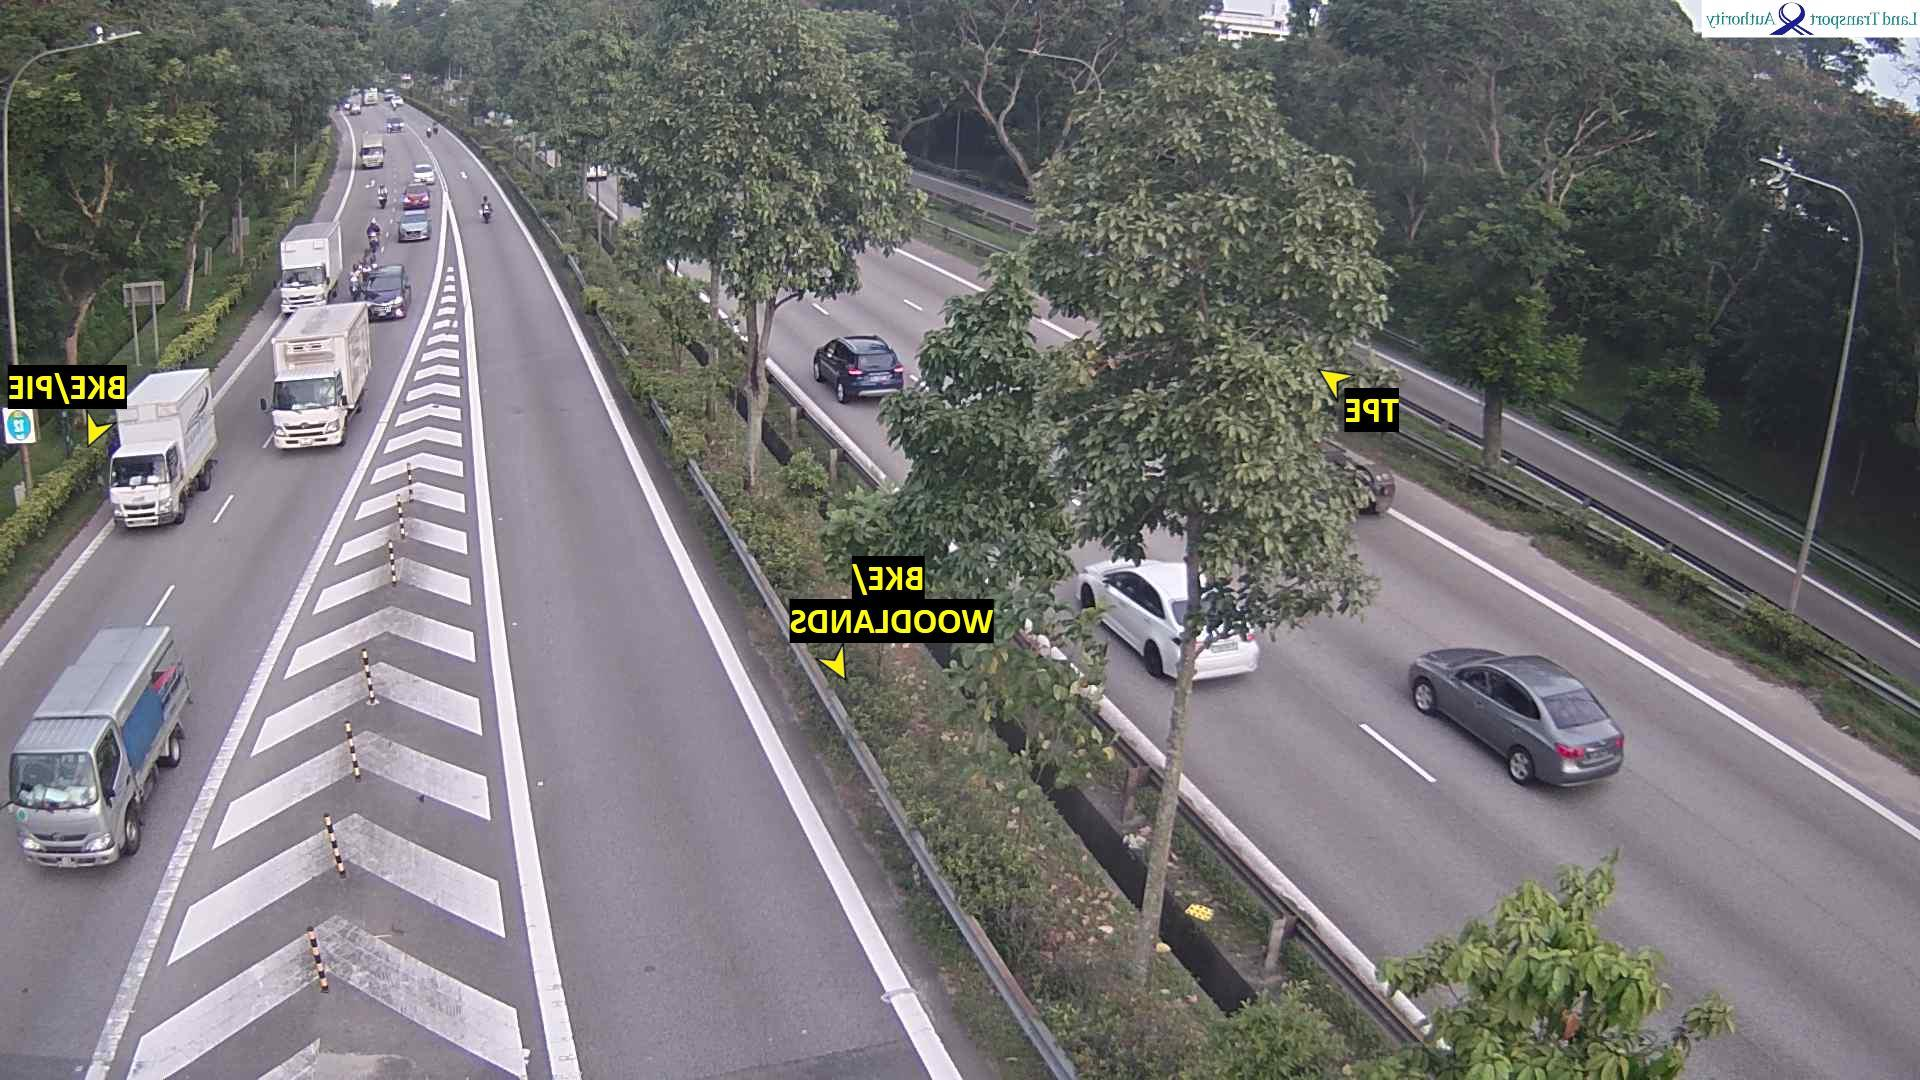incoming: (4, 720, 128, 862), (103, 436, 185, 530), (258, 367, 343, 451), (272, 262, 326, 314), (361, 270, 406, 319), (394, 214, 433, 243), (360, 145, 384, 171), (404, 186, 429, 208), (411, 166, 434, 183), (480, 202, 493, 223), (376, 189, 388, 206)
